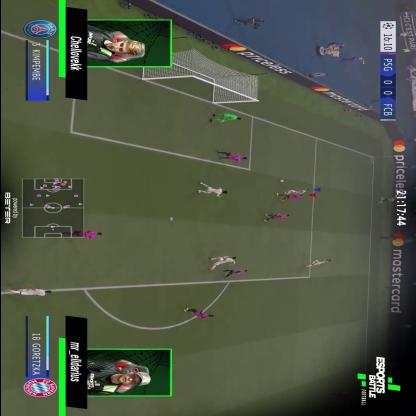ball: (278, 180, 283, 182)
